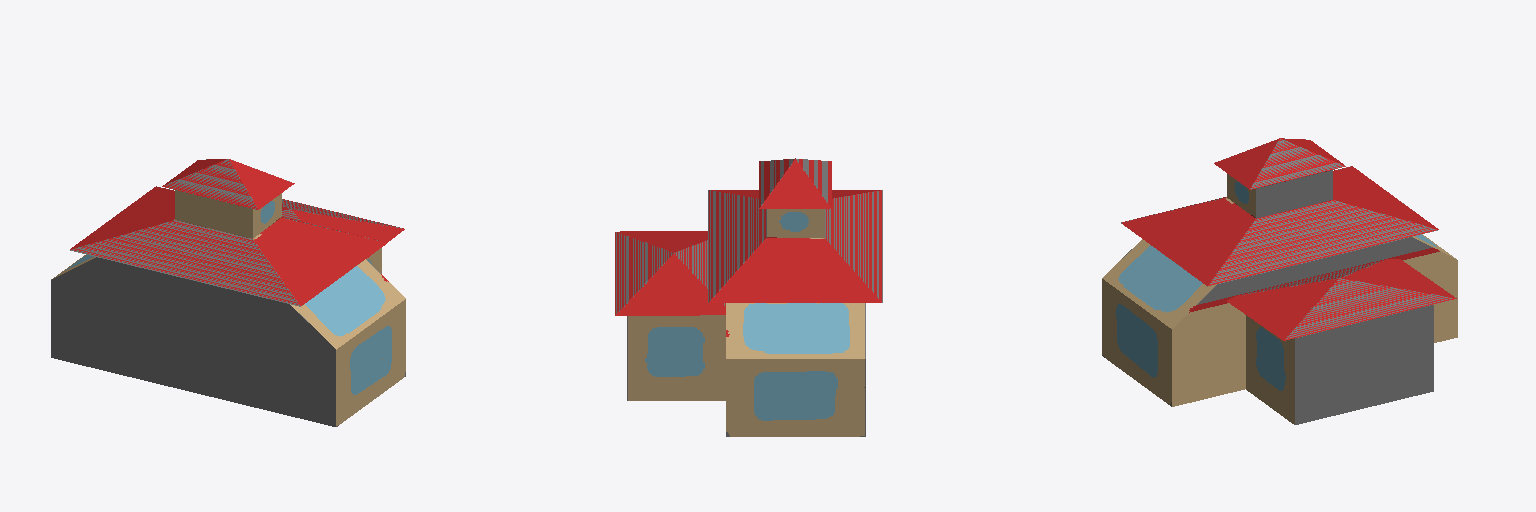
3 views of the same model, side by side, from view 1: azimuth 30°, elevation 25°; view 2: azimuth 150°, elevation 25°; view 3: azimuth 270°, elevation 25° (orthographic).
Parts seen in each view (by area): view 1: pCube1; view 2: pCube1; view 3: pCube1.
Part boxes in pixels (left/top/right/bottom): pCube1: left=51, top=159, right=405, bottom=426; pCube1: left=615, top=158, right=882, bottom=436; pCube1: left=1102, top=138, right=1457, bottom=424.
Bounding box in the file's own units: 3.5 × 2.3 × 3.56.
Materials: 1 (1 with a texture image).